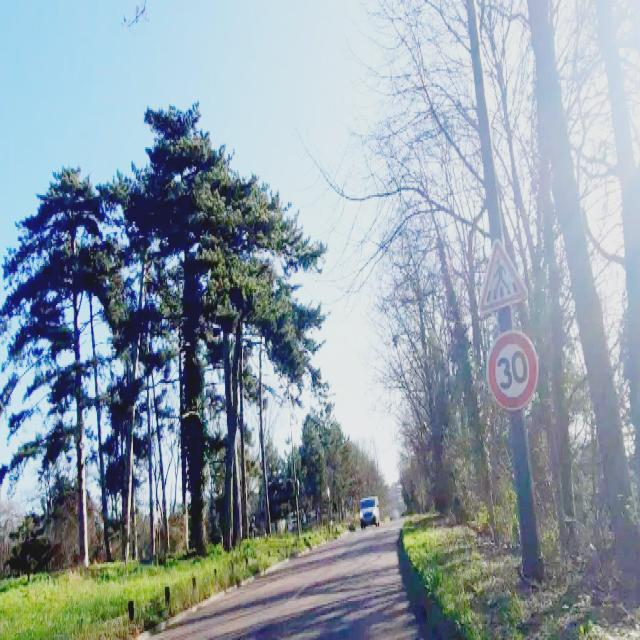speed_30: (487, 333, 539, 413)
